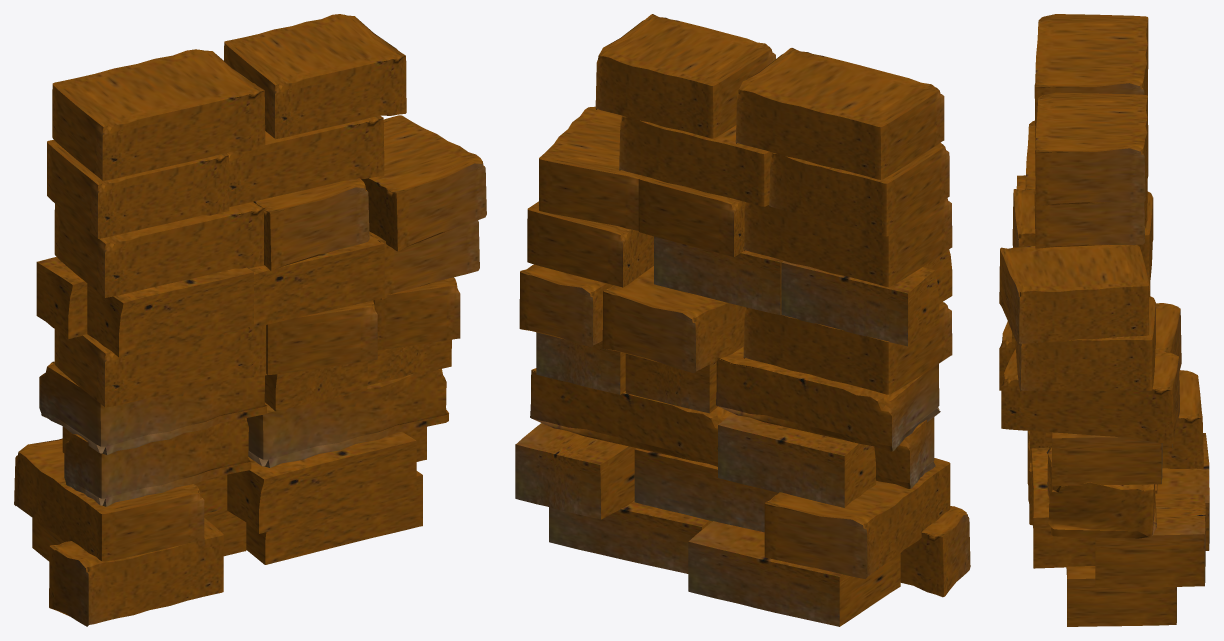
Rendered from Donggach.fbx.
The picture shows the model from 3 angles, left to right: view 1: azimuth 30°, elevation 25°; view 2: azimuth 150°, elevation 25°; view 3: azimuth 270°, elevation 25°; orthographic projection. The views are drawn at different scales.
Visible parts, largest first — view 1: polySurface28; view 2: polySurface28; view 3: polySurface28.
Part boxes in pixels (x1=…): polySurface28: x1=14, y1=14, x2=486, y2=626; polySurface28: x1=515, y1=14, x2=970, y2=626; polySurface28: x1=999, y1=14, x2=1209, y2=626.
Size of the model in its own units: 43.76 by 51.9 by 21.25.
1 material, 1 textured.
